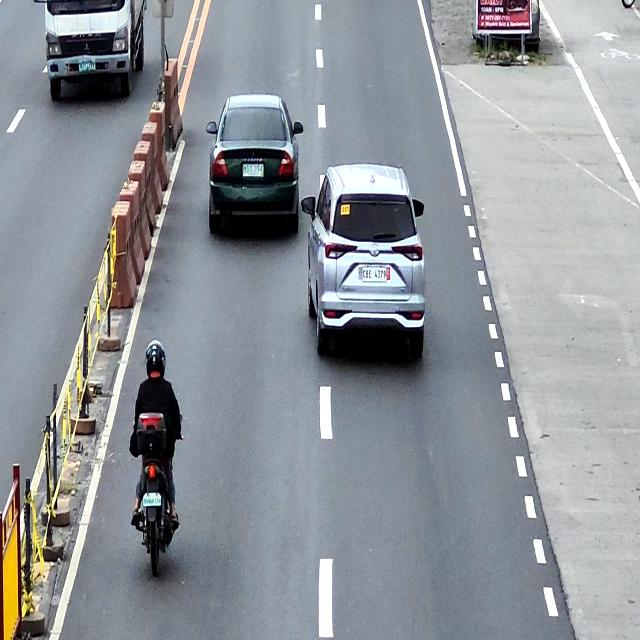Car: (301, 164, 426, 360), (205, 95, 304, 238)
License-Plate: (362, 267, 387, 282), (242, 163, 264, 178), (142, 493, 162, 508), (79, 60, 96, 73)
Motorcycle: (134, 413, 181, 576)
Truck: (42, 0, 148, 100)
